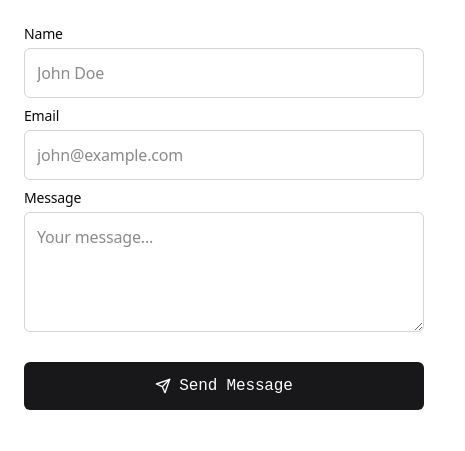
AnimatedContactForm › shows email validation error for invalid email on submit
Type "John" into the field labelled "Name" at (224, 73), box [24, 48, 424, 98]
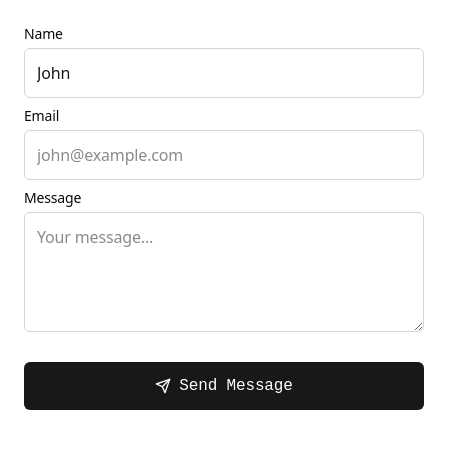
Type "invalid" into the field labelled "Email" at (224, 155), box [24, 130, 424, 180]
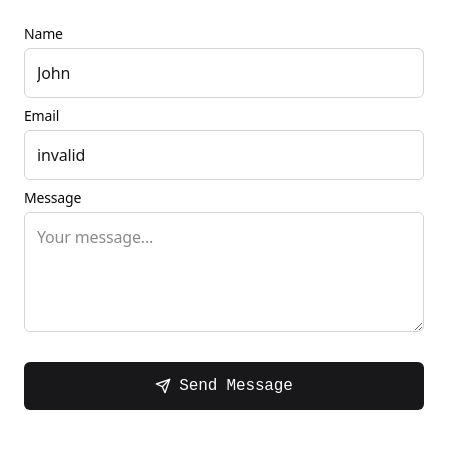
Type "This is a long enough message" into the text box labelled "Message" at (224, 272), box [24, 212, 424, 332]
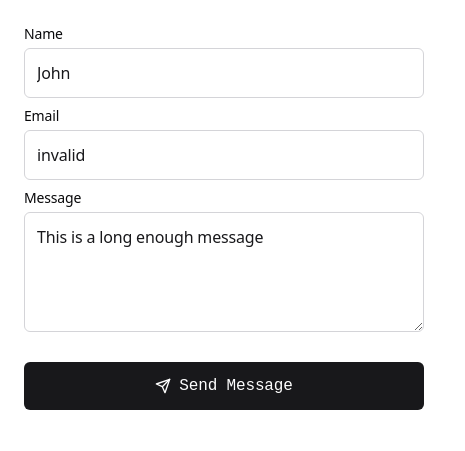
Submit the form labelled "Name"
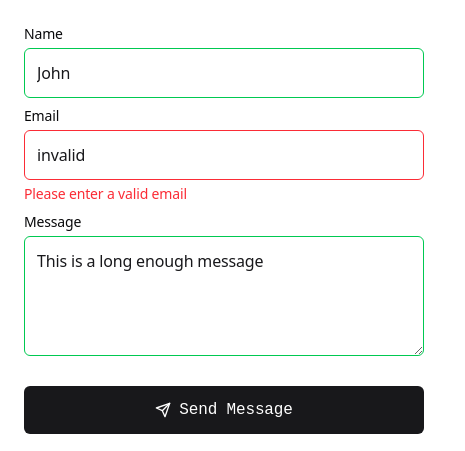
Expected: the text "Please enter a valid email" is shown, [24, 184, 187, 203]
